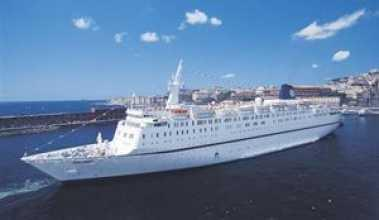youlun: (19, 89, 343, 180)
